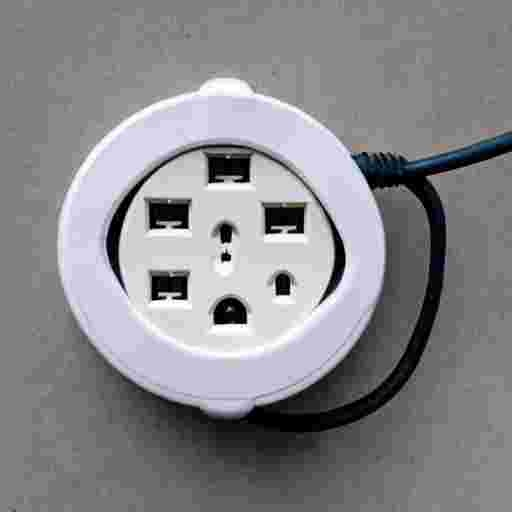power outlet: (58, 78, 384, 417)
